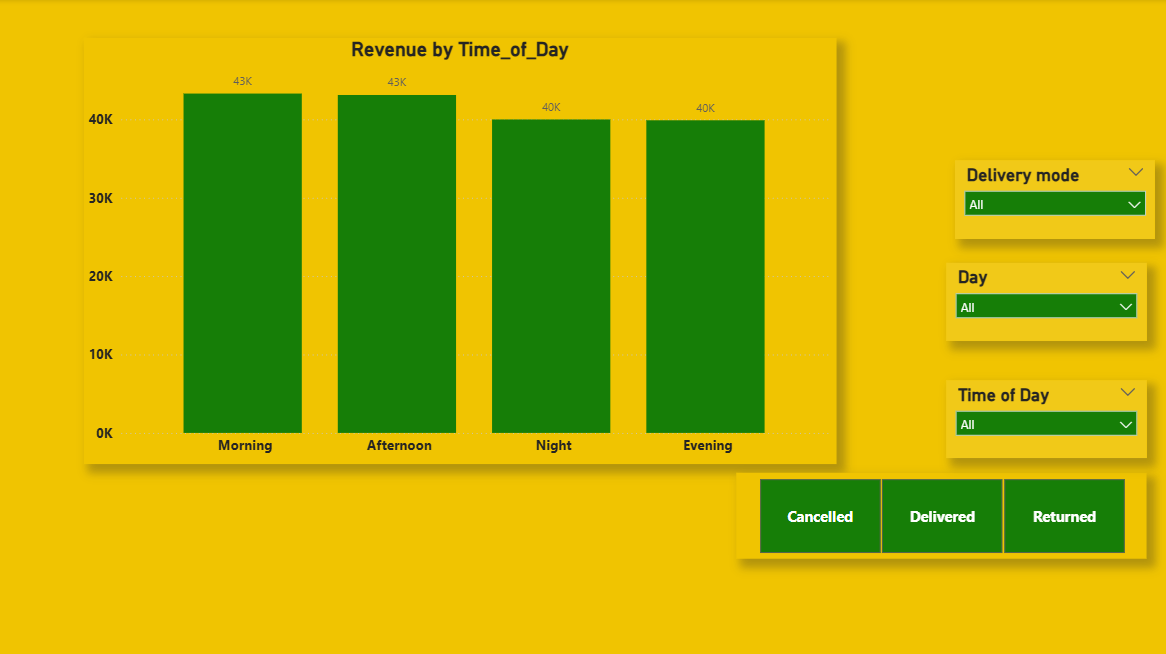

What the dashboard file says about the page in this screenshot:
{"tool":"powerbi","page":{"name":"revenue by order time of day","canvas":[1280,720],"ordinal":5},"visuals":[{"type":"columnChart","title":"Revenue by Time_of_Day","fields":{"Category":["blinkit_metro_orders1.Time_of_Day"],"Y":["Sum(blinkit_metro_orders1.Final_Amount)"]},"box":[92,42,826,468],"z":0},{"type":"slicer","fields":{"Values":["blinkit_metro_orders1.Delivery_Mode"]},"box":[1048.8,177.5,219.6,86.4],"z":1000},{"type":"slicer","fields":{"Values":["blinkit_metro_orders1.Delivery_Status"]},"box":[808,520.2,450.5,94.7],"z":2000},{"type":"slicer","fields":{"Values":["blinkit_metro_orders1.Day Name"]},"box":[1038.7,289.6,219.9,85.8],"z":3000},{"type":"slicer","fields":{"Values":["blinkit_metro_orders1.Time_of_Day"]},"box":[1038.7,418.3,219.9,85.8],"z":4000}]}

Visuals, with their boxes in screenshot pixels (x1, y1, x2, y2), scaled from the page's 1280x720 canvas onto the 1166x654 screenshot:
"Revenue by Time_of_Day" columnChart: bbox(84, 38, 836, 463)
slicer - blinkit_metro_orders1.Delivery_Mode: bbox(955, 161, 1155, 240)
slicer - blinkit_metro_orders1.Delivery_Status: bbox(736, 473, 1146, 559)
slicer - blinkit_metro_orders1.Day Name: bbox(946, 263, 1147, 341)
slicer - blinkit_metro_orders1.Time_of_Day: bbox(946, 380, 1147, 458)
